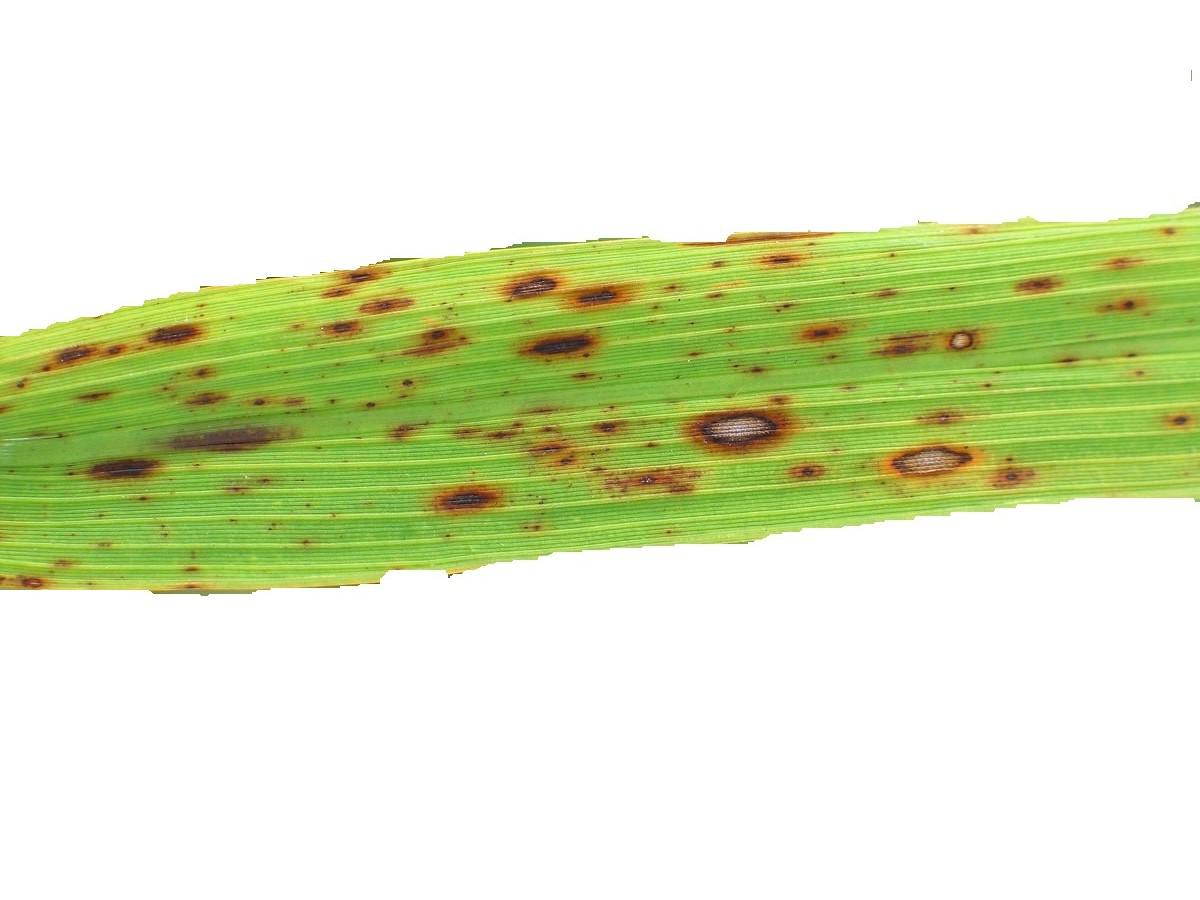brown_spot: (56, 279, 1036, 517)
